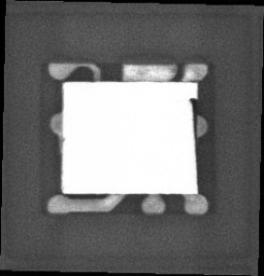DIE_BROKEN: (188, 96, 199, 144)
